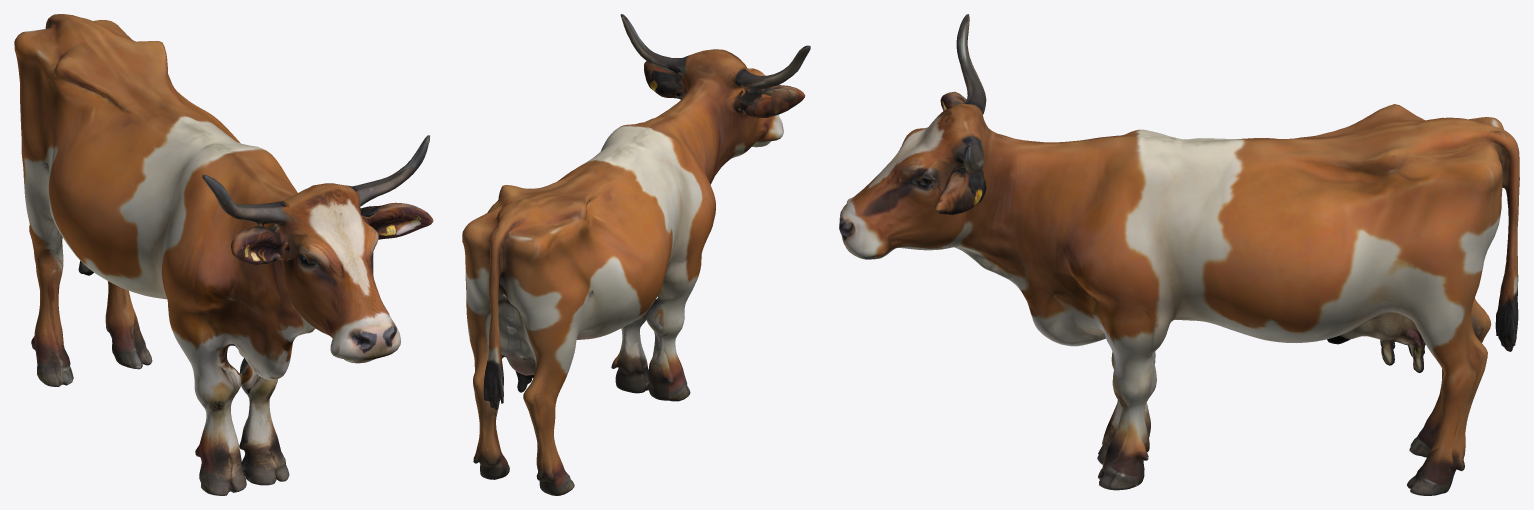
The picture shows the model from 3 angles, left to right: view 1: azimuth 30°, elevation 25°; view 2: azimuth 150°, elevation 25°; view 3: azimuth 270°, elevation 25°; orthographic projection. The views are drawn at different scales.
Bounding box in the file's own units: 0.7935 × 1.29 × 2.
Materials: 1 (1 with a texture image).
